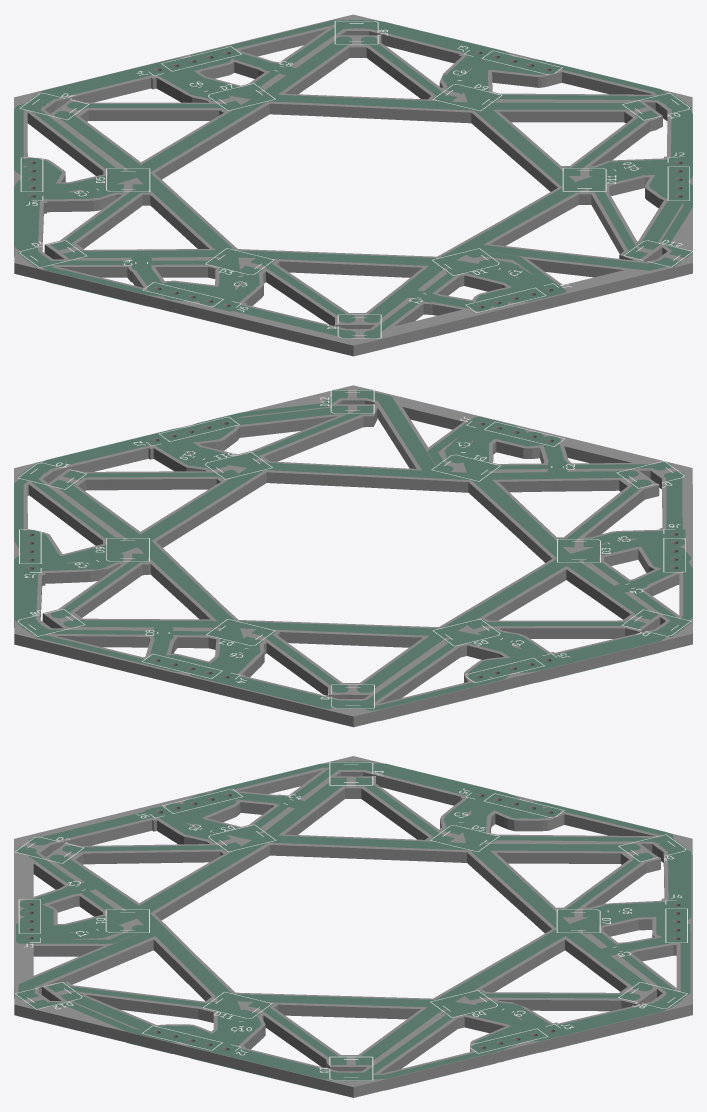
The picture shows the model from 3 angles, top to bottom: view 1: azimuth 30°, elevation 25°; view 2: azimuth 150°, elevation 25°; view 3: azimuth 270°, elevation 25°; orthographic projection.
Parts seen in each view (by area): view 1: =>[0:1:1:4], =>[0:1:1:3], =>[0:1:1:2]; view 2: =>[0:1:1:4], =>[0:1:1:3], =>[0:1:1:2]; view 3: =>[0:1:1:4], =>[0:1:1:3], =>[0:1:1:2].
Part boxes in pixels (left/top/right/bottom): =>[0:1:1:4]: left=14, top=14, right=692, bottom=356; =>[0:1:1:3]: left=14, top=20, right=692, bottom=338; =>[0:1:1:2]: left=19, top=21, right=692, bottom=338; =>[0:1:1:4]: left=14, top=385, right=692, bottom=727; =>[0:1:1:3]: left=14, top=389, right=692, bottom=721; =>[0:1:1:2]: left=17, top=390, right=691, bottom=708; =>[0:1:1:4]: left=14, top=756, right=692, bottom=1097; =>[0:1:1:3]: left=14, top=761, right=692, bottom=1090; =>[0:1:1:2]: left=14, top=762, right=687, bottom=1080.
Bounding box in the file's own units: 0.1 × 0.00166 × 0.0866.
